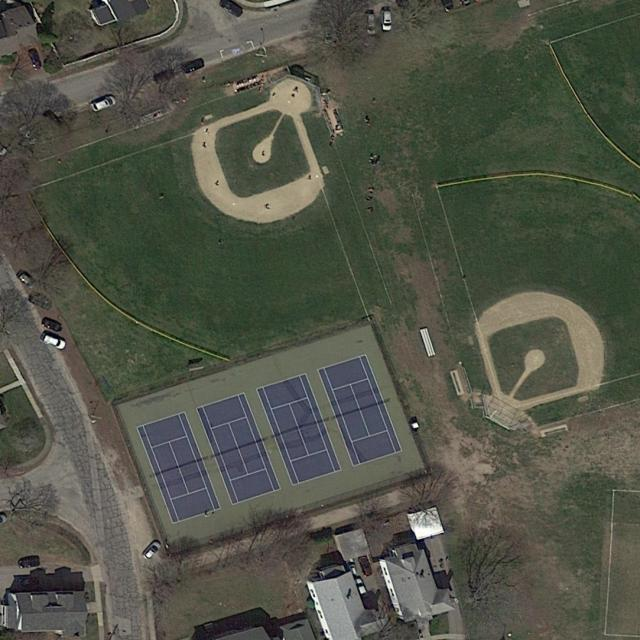small-vehicle: (87, 94, 118, 114), (37, 332, 67, 352), (28, 291, 54, 312), (219, 0, 246, 19), (141, 540, 164, 561), (151, 68, 177, 85), (27, 48, 44, 72), (180, 58, 204, 75), (17, 271, 38, 290), (41, 316, 64, 333), (357, 555, 374, 577), (322, 22, 336, 44), (363, 14, 377, 35), (345, 556, 358, 576), (381, 9, 392, 32), (354, 578, 368, 596), (17, 559, 41, 568)
